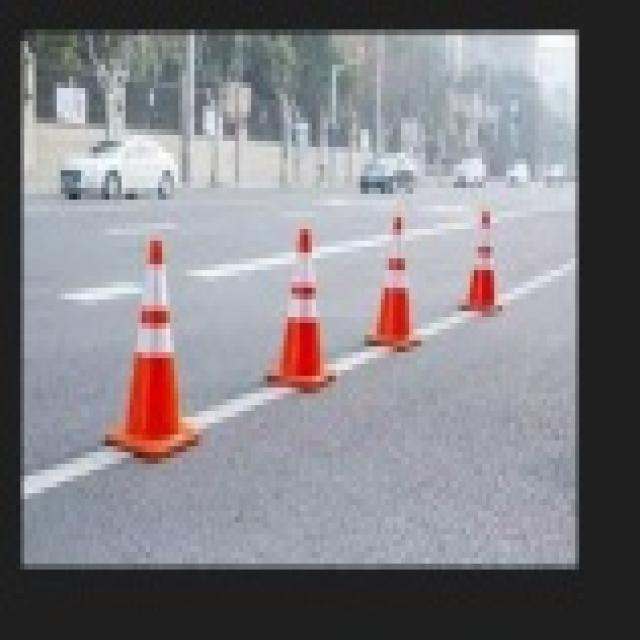cone: (97, 229, 215, 552), (260, 205, 344, 428), (354, 200, 418, 417), (463, 194, 516, 330)
